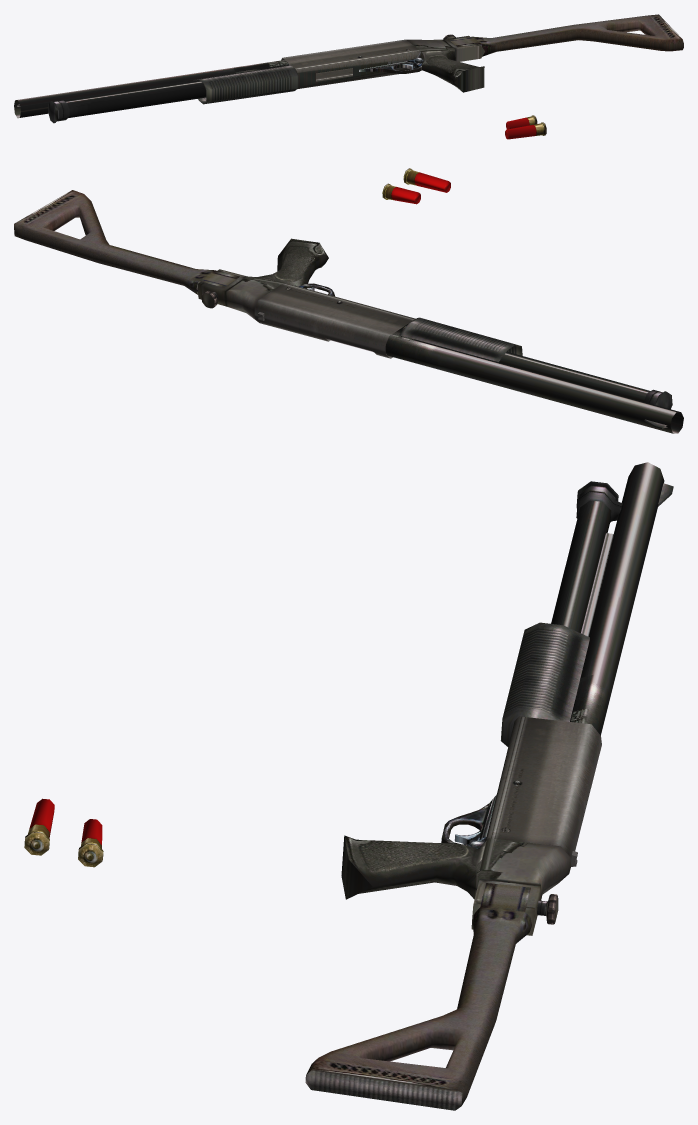
The model's file is shtg_1st.glb.
3 renders of one model, top to bottom at view 1: azimuth 30°, elevation 25°; view 2: azimuth 150°, elevation 25°; view 3: azimuth 270°, elevation 25°, orthographic. The views are drawn at different scales.
Parts seen in each view (by area): view 1: _shtg_1st; view 2: _shtg_1st; view 3: _shtg_1st.
Boxes of the visible parts, x1,y1,x2,y2 form: _shtg_1st: [14, 14, 683, 139]; _shtg_1st: [14, 168, 683, 433]; _shtg_1st: [24, 462, 673, 1110].
Bounding box in the file's own units: 1.18 × 0.0683 × 0.5571.
Materials: 2 (2 with a texture image).
